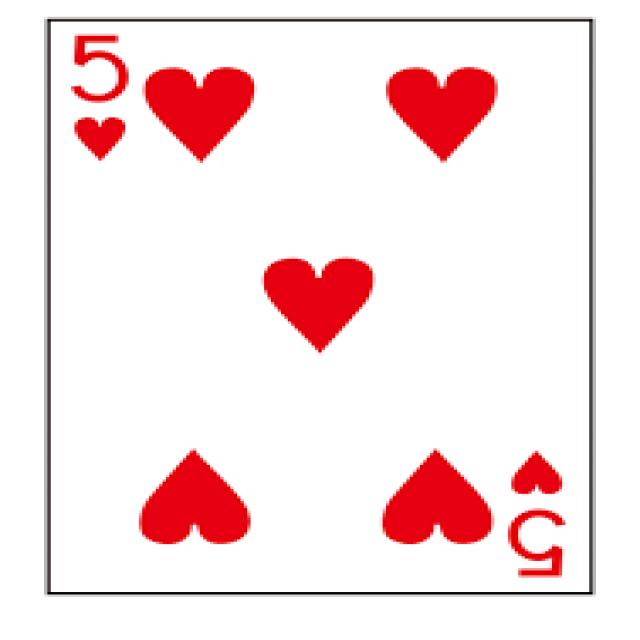H5: (44, 18, 598, 599)
